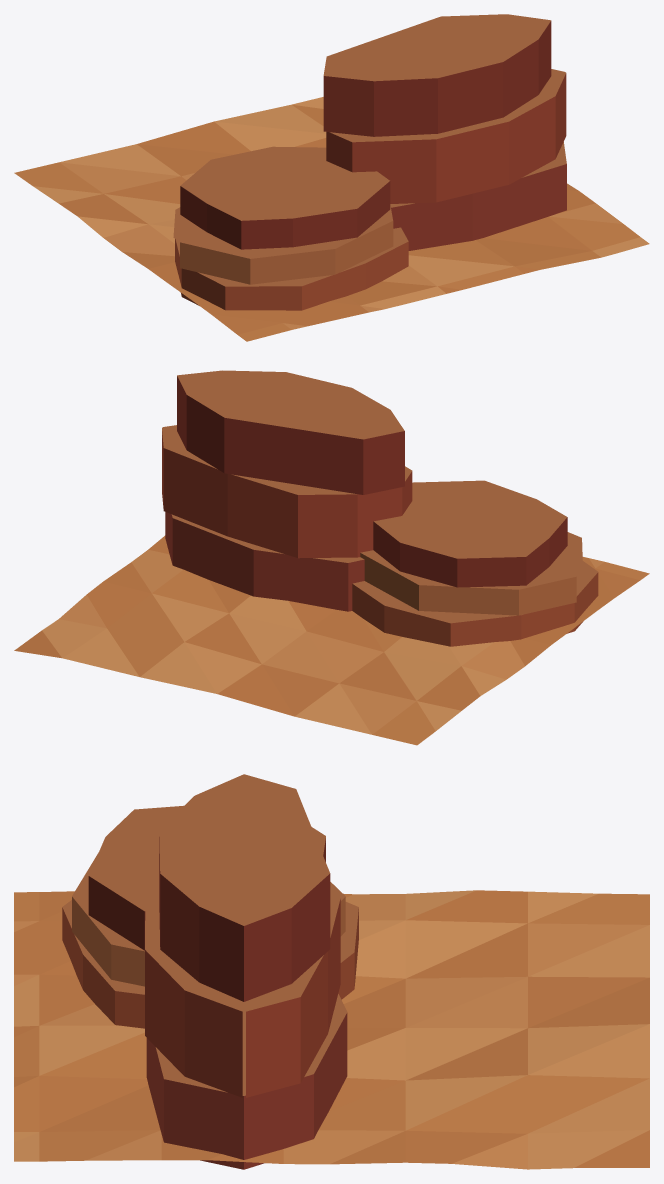
The picture shows the model from 3 angles, top to bottom: view 1: azimuth 30°, elevation 25°; view 2: azimuth 150°, elevation 25°; view 3: azimuth 270°, elevation 25°; orthographic projection. The views are drawn at different scales.
Parts seen in each view (by area): view 1: baked; view 2: baked; view 3: baked.
Boxes of the visible parts, left/top/right/bottom form: baked: left=14, top=14, right=649, bottom=341; baked: left=14, top=370, right=649, bottom=745; baked: left=14, top=774, right=649, bottom=1169.
Size of the model in its own units: 62.5 by 25.59 by 62.5.
